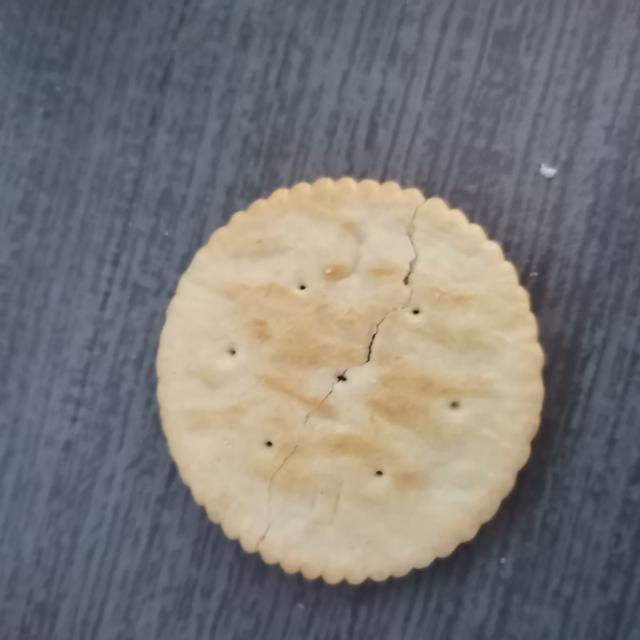Fracture: (234, 184, 443, 568)
